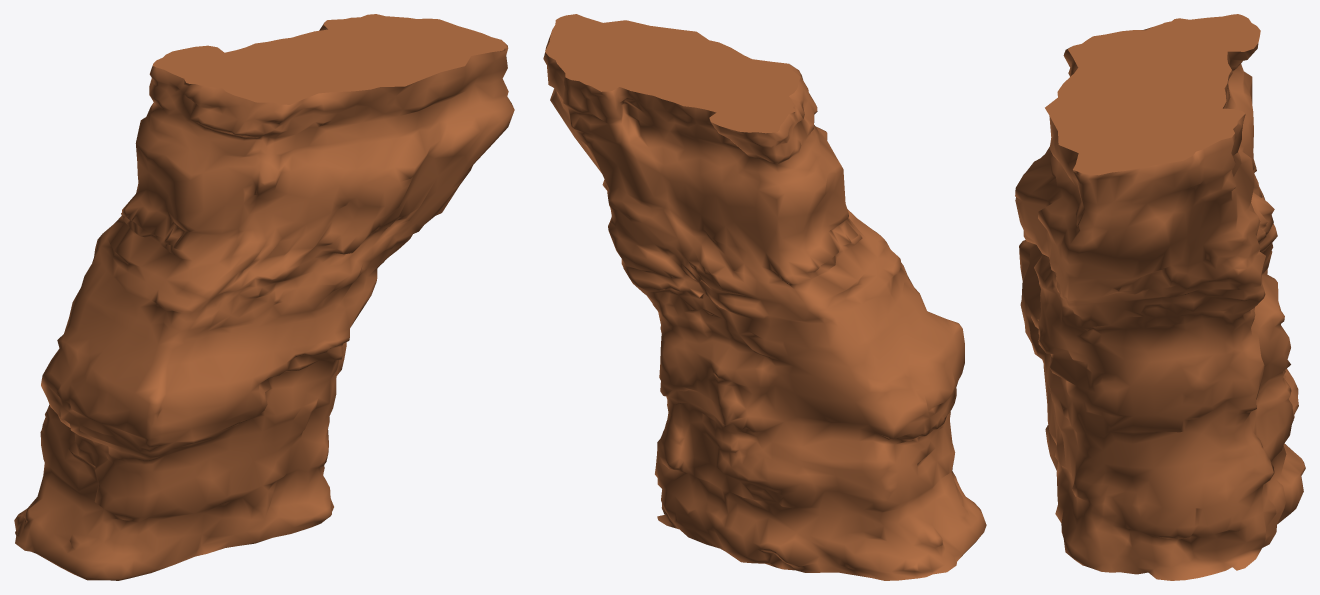
The model's file is MSH_Rocks_Cliff_11_a.FBX.
The picture shows the model from 3 angles, left to right: view 1: azimuth 30°, elevation 25°; view 2: azimuth 150°, elevation 25°; view 3: azimuth 270°, elevation 25°; orthographic projection. The views are drawn at different scales.
Parts seen in each view (by area): view 1: MESH_LOD0, CAP_LOD0; view 2: MESH_LOD0, CAP_LOD0; view 3: MESH_LOD0, CAP_LOD0.
Part boxes in pixels (x1,y1,x2,y2): MESH_LOD0: (14,23,514,580); CAP_LOD0: (152,14,505,104); MESH_LOD0: (543,33,986,580); CAP_LOD0: (545,14,800,133); MESH_LOD0: (1015,27,1305,580); CAP_LOD0: (1045,14,1260,175).
Size of what is drawn, in the model's own units: 735 by 673 by 361.
